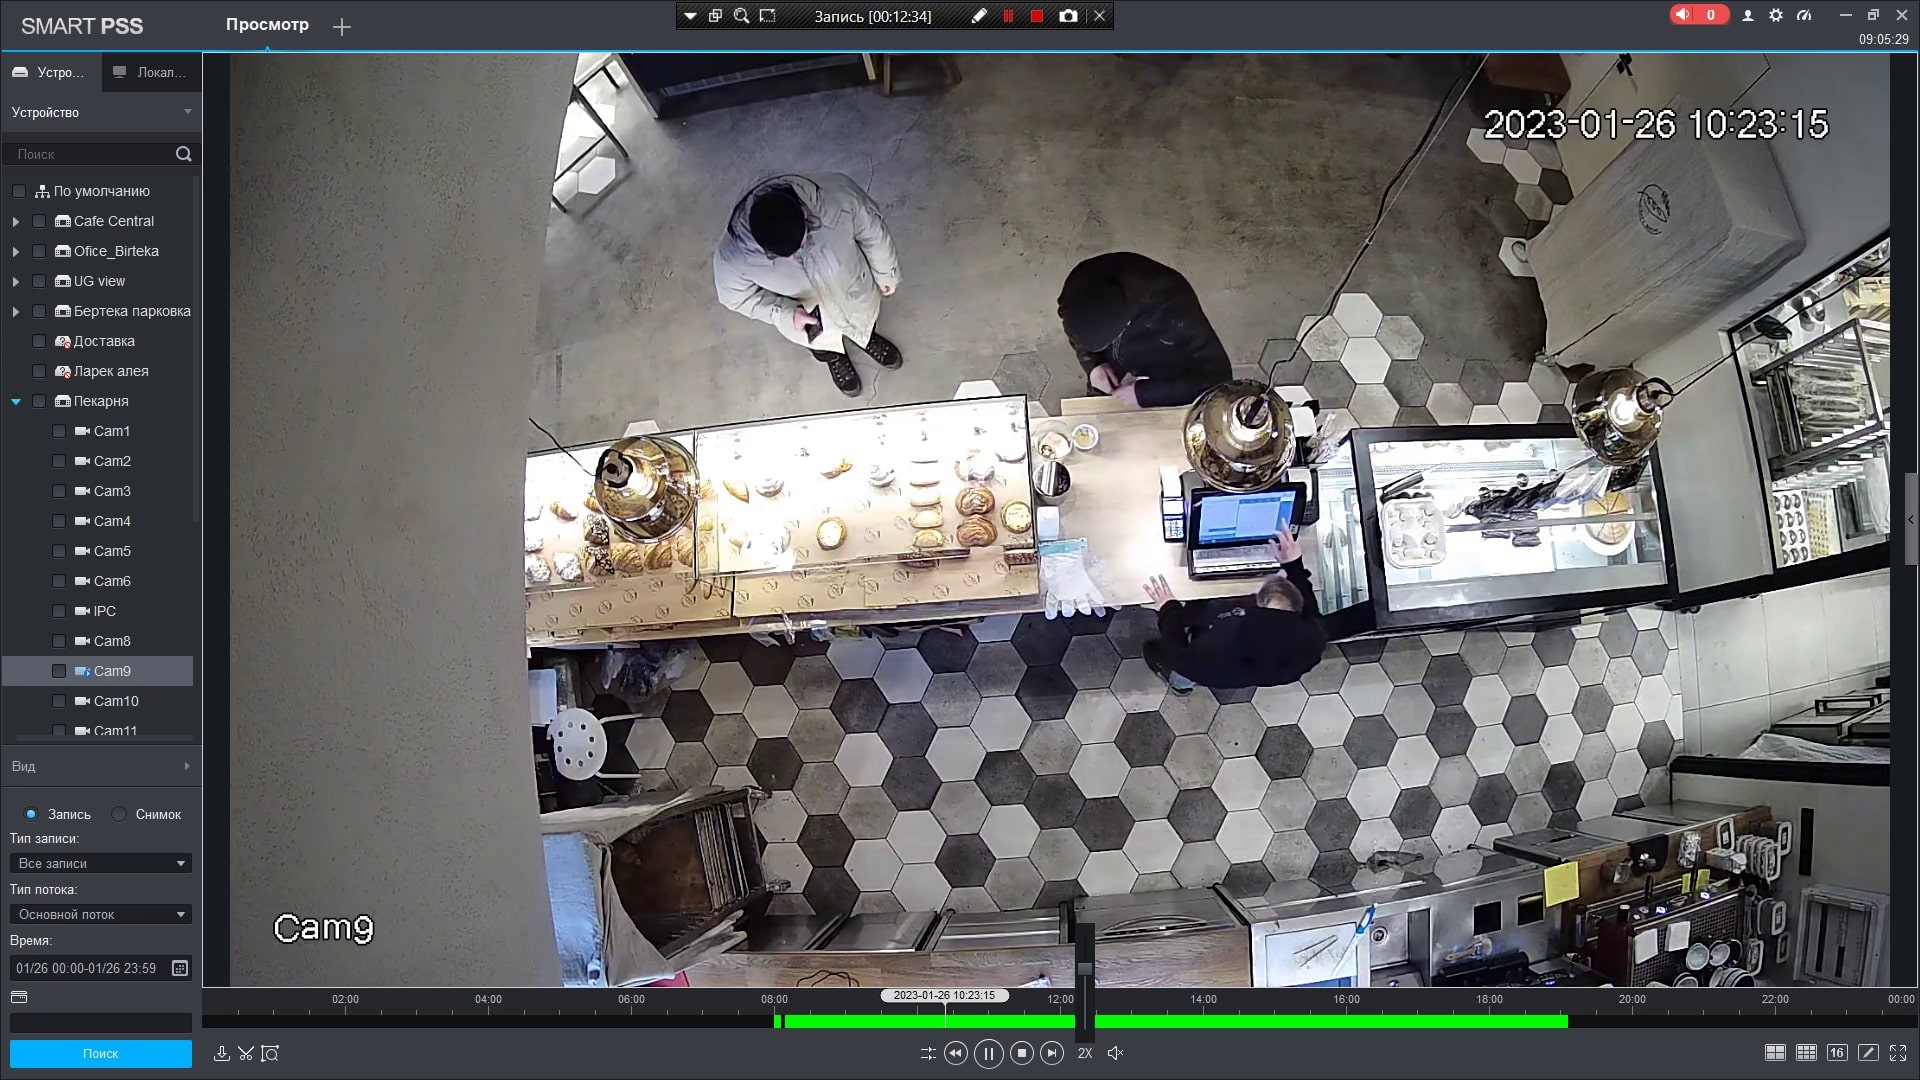barcounter: (537, 443, 1678, 655)
coffee: (1066, 424, 1110, 455)
person: (710, 172, 910, 394), (1054, 250, 1234, 419)
